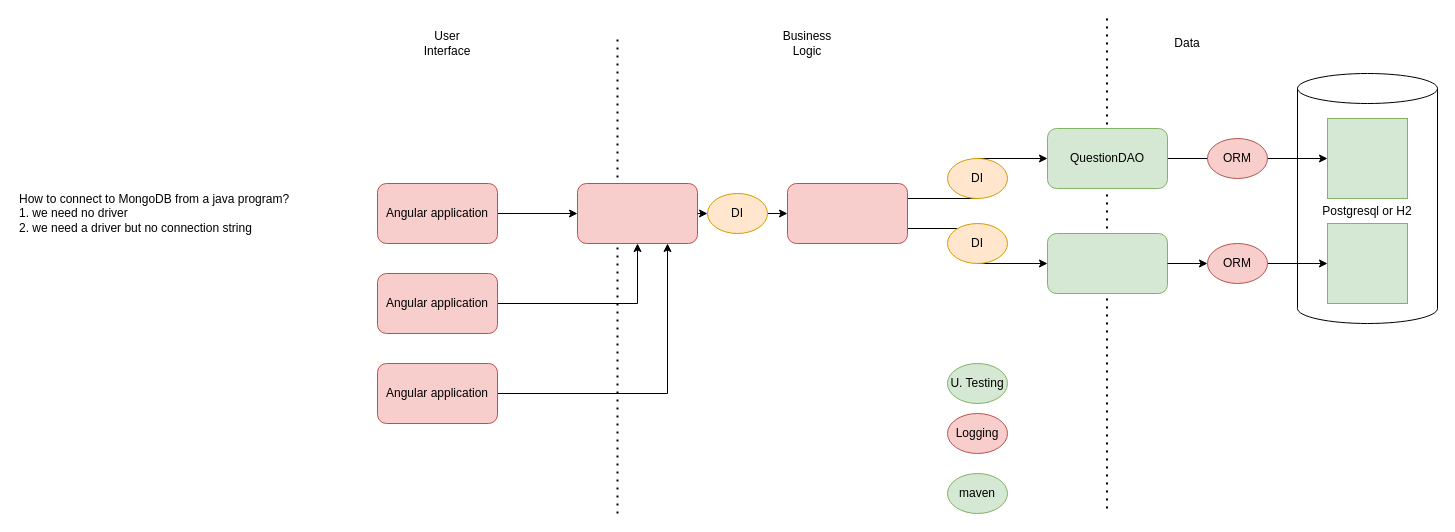
This 1455x532 diagram has some shape labels left out. The shapes that lost their labels are listed below. From the top down, each one's centre as x and y in pixels, then its label:
the point at 1367,158: Question
the point at 637,213: Rest Service
the point at 847,213: QuestionDataservice aka Repository
the point at 1107,263: ChoiceDAO
the point at 1367,263: Choice
